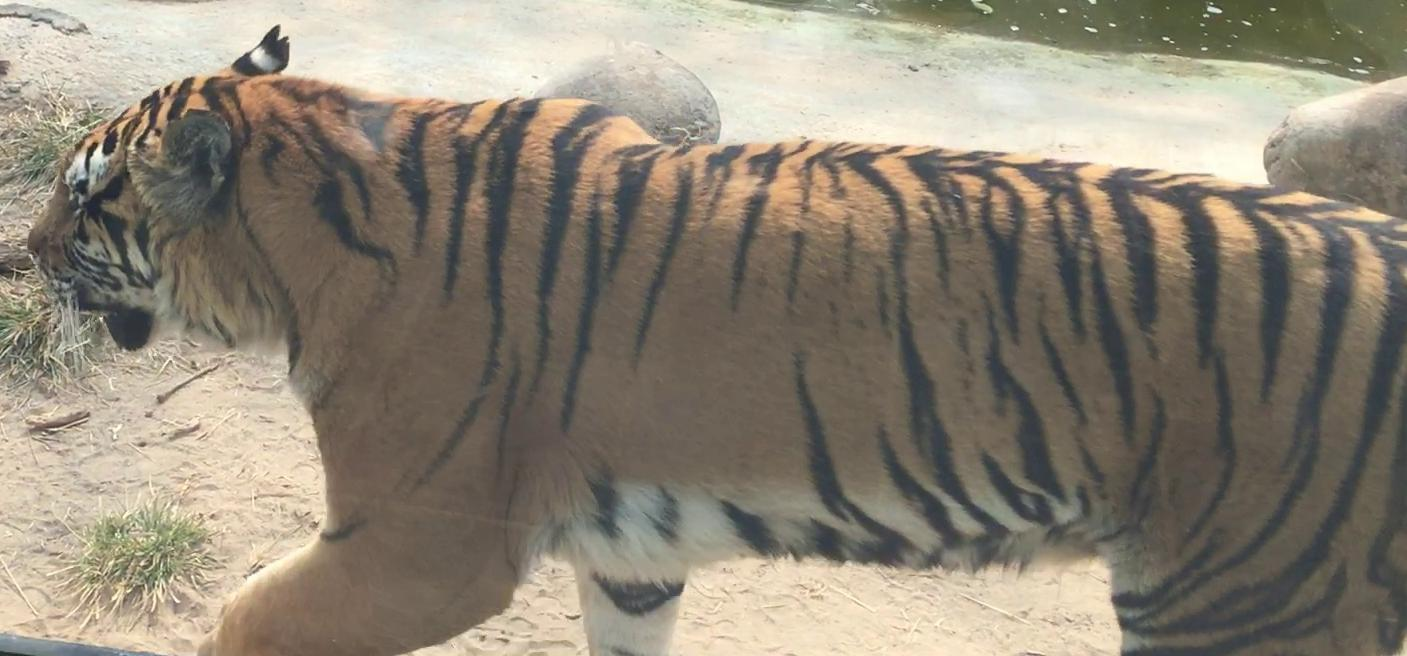tiger: (29, 29, 1406, 655)
